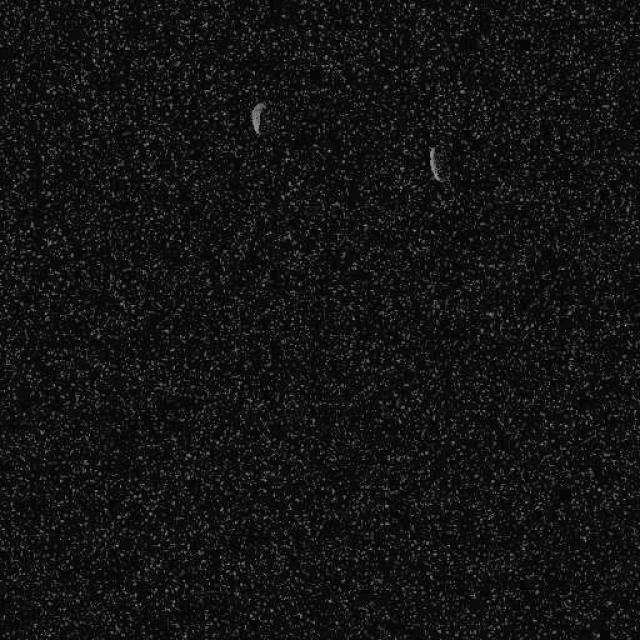D2: (426, 145, 449, 184), (249, 100, 266, 134)
